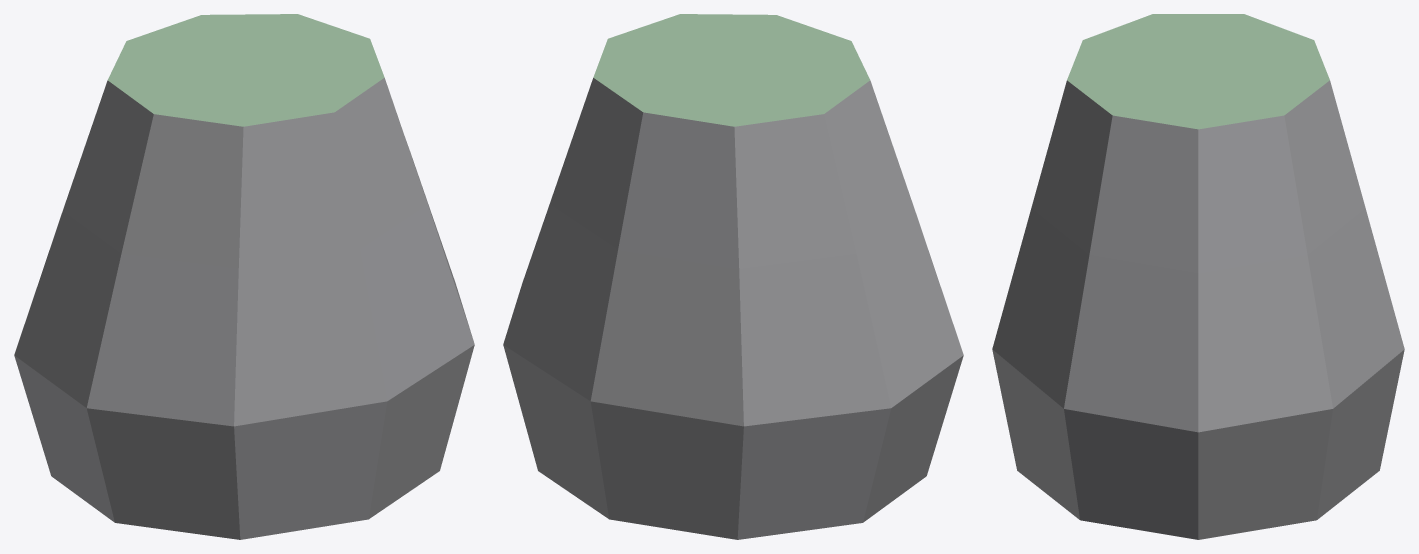
The model's file is npc_module_thigh_v01.glb.
3 views of the same model, side by side, from view 1: azimuth 30°, elevation 25°; view 2: azimuth 150°, elevation 25°; view 3: azimuth 270°, elevation 25° (orthographic).
Visible parts, largest first — view 1: GEO_npc_module_thigh_v01; view 2: GEO_npc_module_thigh_v01; view 3: GEO_npc_module_thigh_v01.
Part boxes in pixels (x1,y1,x2,y2): GEO_npc_module_thigh_v01: (14, 14, 474, 539); GEO_npc_module_thigh_v01: (503, 14, 963, 539); GEO_npc_module_thigh_v01: (992, 14, 1404, 539).
Size of the model in its own units: 1.28 by 1.18 by 1.14.
